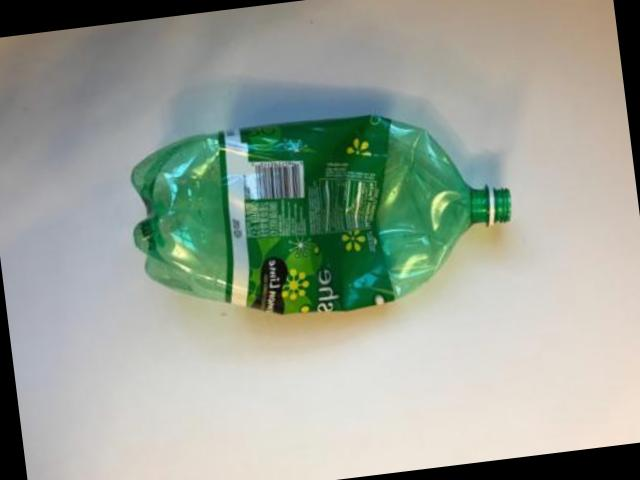plastic: (134, 114, 512, 311)
